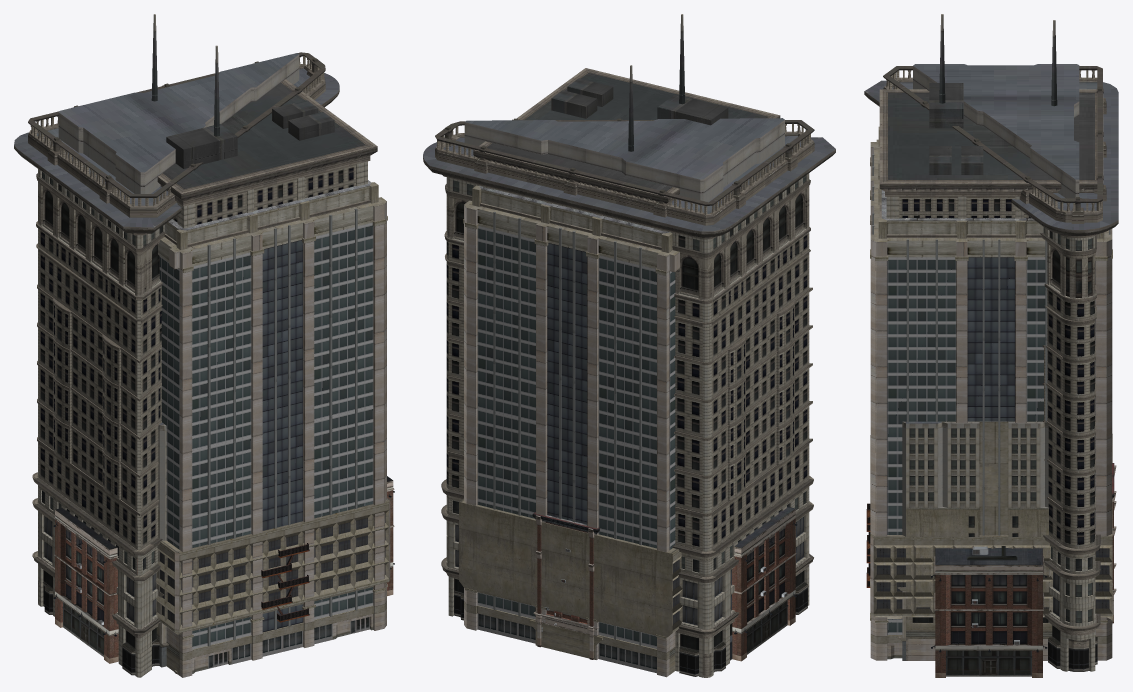
The model's file is downtown_buildings_set_-_low_poly_model.glb.
3 views of the same model, side by side, from view 1: azimuth 30°, elevation 25°; view 2: azimuth 150°, elevation 25°; view 3: azimuth 270°, elevation 25° (orthographic).
Visible parts, largest first — view 1: dt_modern_4, dt_flatiron, dt_modern_5, dt_brutal, dt_brownstone_a, dt_classic, dt_brownstone_b; view 2: dt_flatiron, dt_modern_4, dt_brutal, dt_modern_5, dt_brownstone_a, dt_brownstone_b; view 3: dt_modern_4, dt_flatiron, dt_classic, dt_modern_5, dt_brownstone_a, dt_brutal, dt_brownstone_b.
Boxes of the visible parts, left/top/right/bottom form: dt_modern_4: left=158, top=180, right=387, bottom=677; dt_flatiron: left=14, top=52, right=339, bottom=677; dt_modern_5: left=151, top=14, right=377, bottom=247; dt_brutal: left=155, top=498, right=390, bottom=674; dt_brownstone_a: left=53, top=476, right=394, bottom=663; dt_classic: left=156, top=422, right=168, bottom=667; dt_brownstone_b: left=261, top=543, right=309, bottom=622; dt_flatiron: left=423, top=118, right=835, bottom=677; dt_modern_4: left=463, top=185, right=679, bottom=677; dt_brutal: left=459, top=498, right=682, bottom=659; dt_modern_5: left=473, top=14, right=780, bottom=250; dt_brownstone_a: left=732, top=506, right=797, bottom=661; dt_brownstone_b: left=532, top=512, right=599, bottom=659; dt_modern_4: left=870, top=126, right=1112, bottom=660; dt_flatiron: left=864, top=64, right=1118, bottom=671; dt_classic: left=897, top=421, right=1052, bottom=660; dt_modern_5: left=879, top=14, right=1103, bottom=237; dt_brownstone_a: left=931, top=546, right=1047, bottom=677; dt_brutal: left=870, top=434, right=1112, bottom=623; dt_brownstone_b: left=866, top=463, right=1116, bottom=623.
Bounding box in the file's own units: 56.53 × 102 × 40.59.
Materials: 16 (16 with a texture image).
